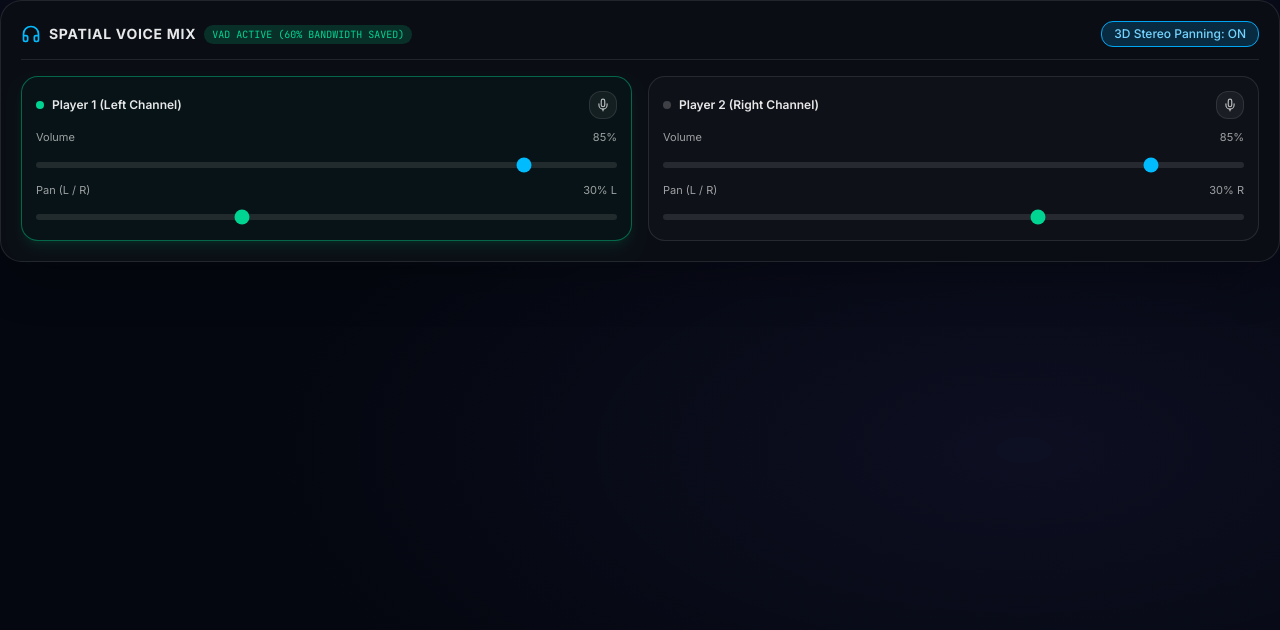
Test case: SpectatorSpatialAudio Component › toggles stereo panning mode to mono mix
Step 1. Click the button "3D Stereo Panning: ON" → click(1180, 34), box [1101,21,1259,47]
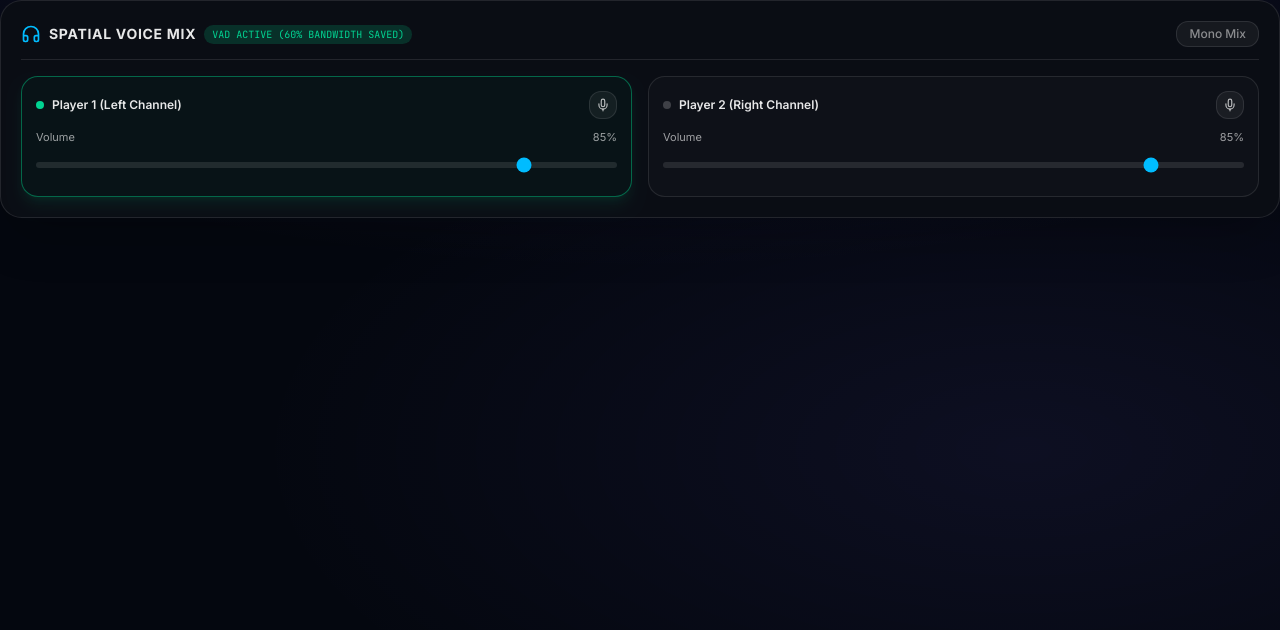
expect the button "Mono Mix" is shown: met, box [1176,21,1259,47]
